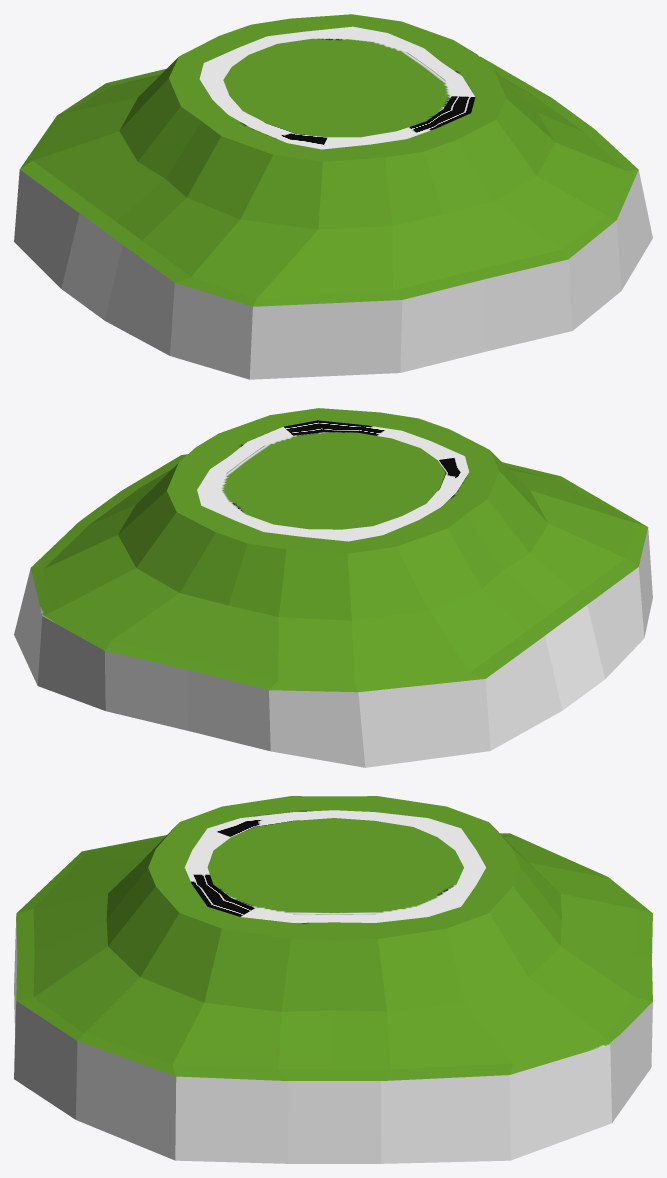
Rendered from hopo_one.fbx.
The picture shows the model from 3 angles, top to bottom: view 1: azimuth 30°, elevation 25°; view 2: azimuth 150°, elevation 25°; view 3: azimuth 270°, elevation 25°; orthographic projection. The views are drawn at different scales.
Parts seen in each view (by area): view 1: pasted__polySurface1; view 2: pasted__polySurface1; view 3: pasted__polySurface1.
Boxes of the visible parts, left/top/right/bottom form: pasted__polySurface1: left=14, top=14, right=652, bottom=379; pasted__polySurface1: left=14, top=408, right=652, bottom=767; pasted__polySurface1: left=14, top=796, right=652, bottom=1163.
Size of the model in its own units: 0.9786 by 0.2885 by 1.
Materials: 1 (1 with a texture image).
